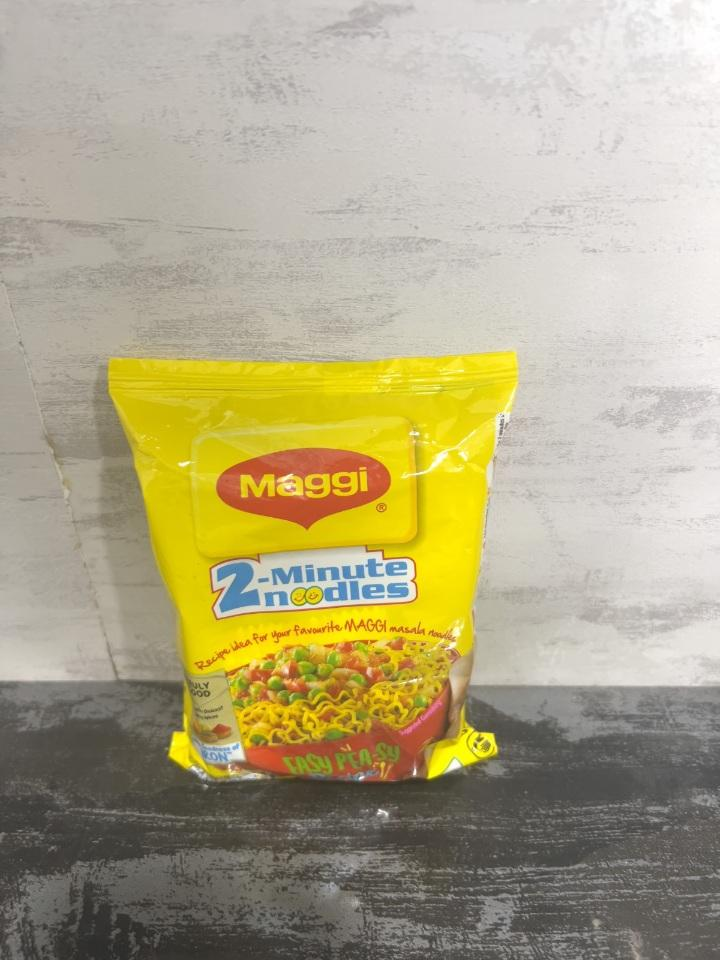Maggi: (111, 357, 519, 778)
